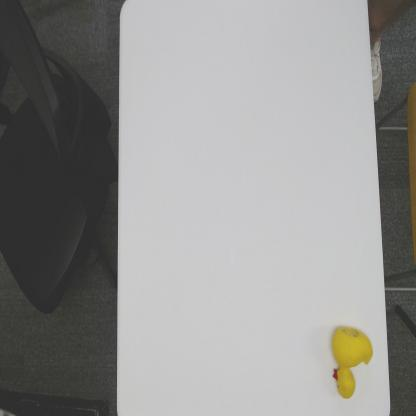Duck: (329, 323, 374, 401)
